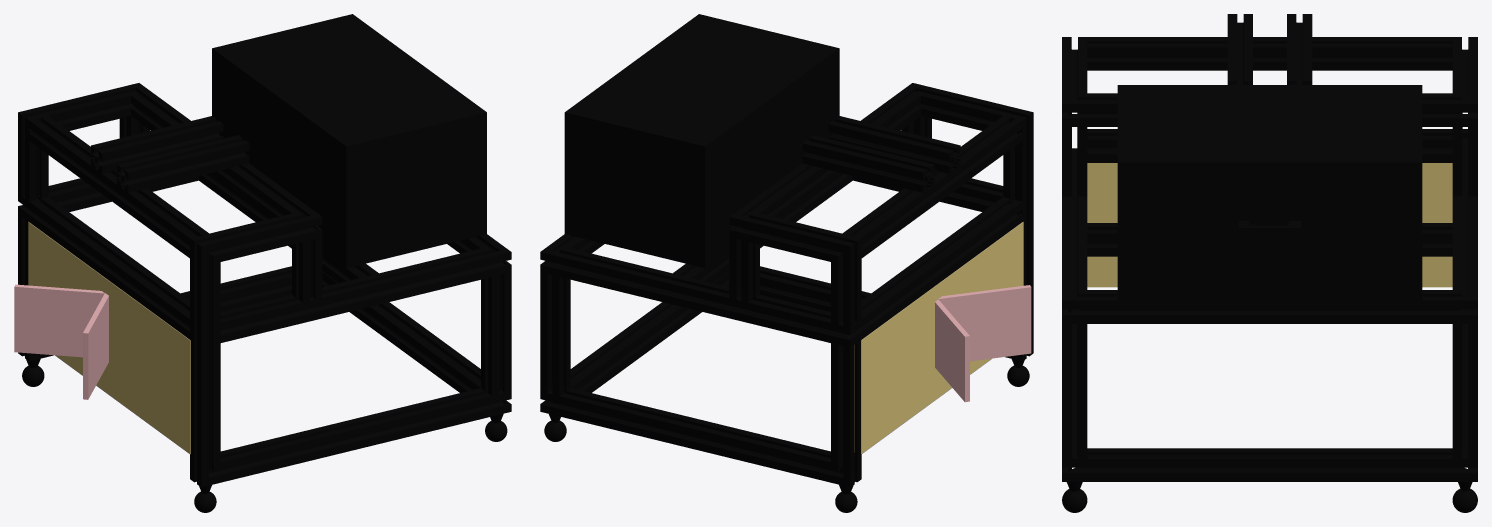
The model's file is arm_base.dae.
The picture shows the model from 3 angles, left to right: view 1: azimuth 30°, elevation 25°; view 2: azimuth 150°, elevation 25°; view 3: azimuth 270°, elevation 25°; orthographic projection. The views are drawn at different scales.
Visible parts, largest first — view 1: trolley, Cube.002, Cube, Cube.001; view 2: trolley, Cube.002, Cube.001, Cube; view 3: trolley, Cube.002.
Boxes of the visible parts, bbox=[...] form: trolley: bbox=[18, 14, 511, 512]; Cube.002: bbox=[28, 222, 190, 454]; Cube: bbox=[14, 284, 104, 357]; Cube.001: bbox=[83, 293, 108, 399]; trolley: bbox=[540, 14, 1033, 512]; Cube.002: bbox=[854, 222, 1023, 453]; Cube.001: bbox=[938, 285, 1031, 361]; Cube: bbox=[935, 299, 969, 402]; trolley: bbox=[1062, 14, 1477, 512]; Cube.002: bbox=[1087, 163, 1452, 287].
Size of the model in its own units: 0.7923 by 0.655 by 0.616.
